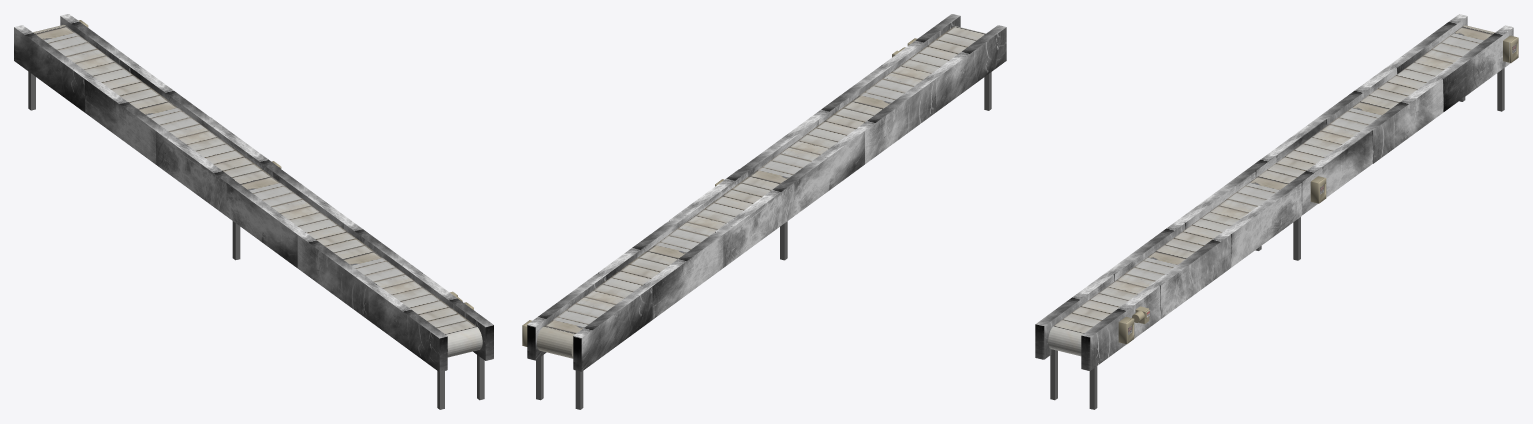
The model's file is conveyor.dae.
3 renders of one model, left to right at view 1: azimuth 30°, elevation 25°; view 2: azimuth 150°, elevation 25°; view 3: azimuth 330°, elevation 25°, orthographic.
Visible parts, largest first — view 1: conveyor_guards, conveyor_rollers, conveyor_legs; view 2: conveyor_guards, conveyor_rollers, conveyor_legs; view 3: conveyor_guards, conveyor_rollers, conveyor_legs, Cube.033.
Boxes of the visible parts, <box> form: conveyor_guards: <box>14,14,493,372</box>; conveyor_rollers: <box>33,25,482,357</box>; conveyor_legs: <box>28,71,484,409</box>; conveyor_guards: <box>527,14,1006,371</box>; conveyor_rollers: <box>537,26,985,358</box>; conveyor_legs: <box>536,72,991,409</box>; conveyor_guards: <box>1035,14,1513,370</box>; conveyor_rollers: <box>1048,25,1494,356</box>; conveyor_legs: <box>1050,68,1504,409</box>; Cube.033: <box>1118,35,1518,344</box>.
Size of the model in its own units: 0.7952 by 9 by 0.9222.
Materials: 6 (4 with a texture image).
